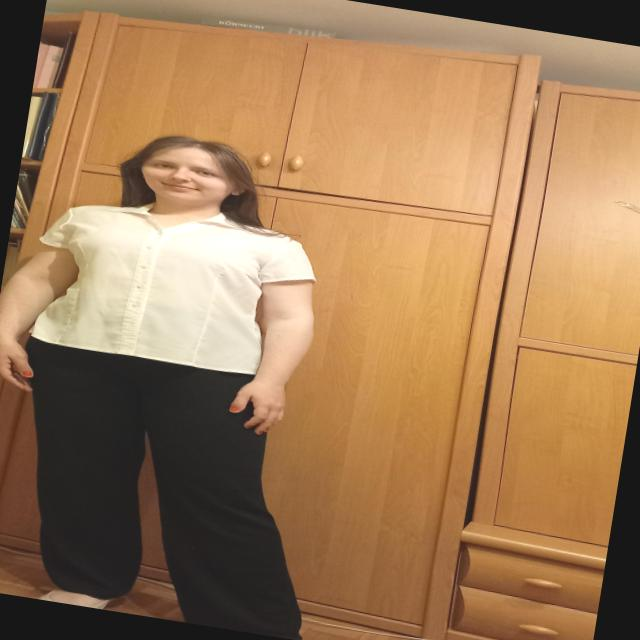pants: (0, 332, 343, 640)
shirt: (21, 186, 323, 384)
